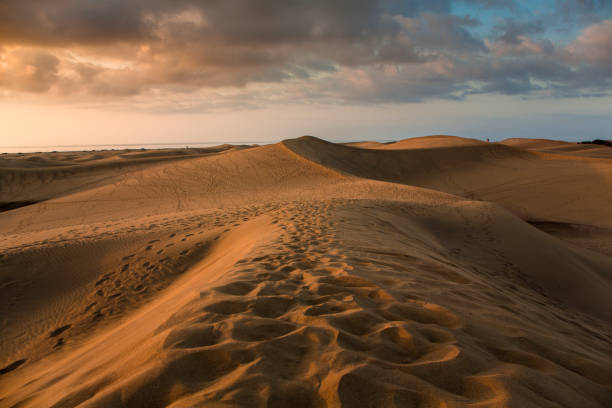human_foot_print: (183, 193, 505, 407), (37, 320, 72, 339), (0, 356, 26, 372), (82, 304, 100, 318), (92, 276, 117, 286), (146, 258, 160, 275), (104, 292, 122, 302), (135, 285, 148, 296), (119, 262, 133, 272), (144, 238, 160, 245), (182, 250, 190, 263), (166, 240, 186, 243)
